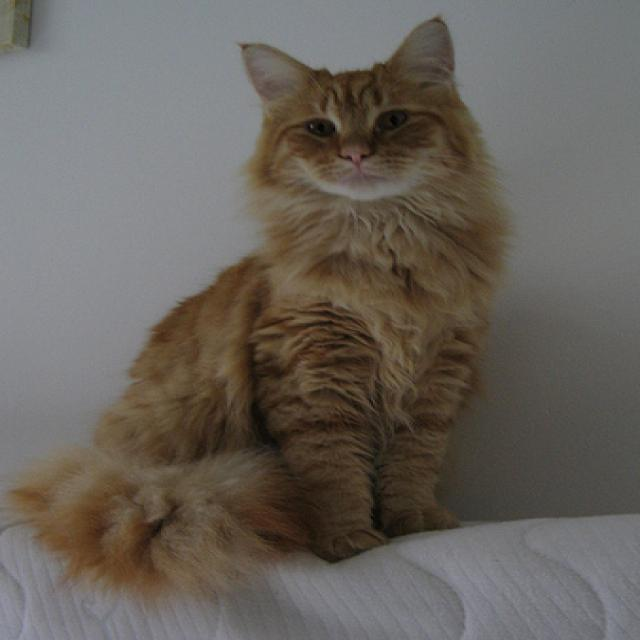Maine Coon: (0, 8, 517, 596)
